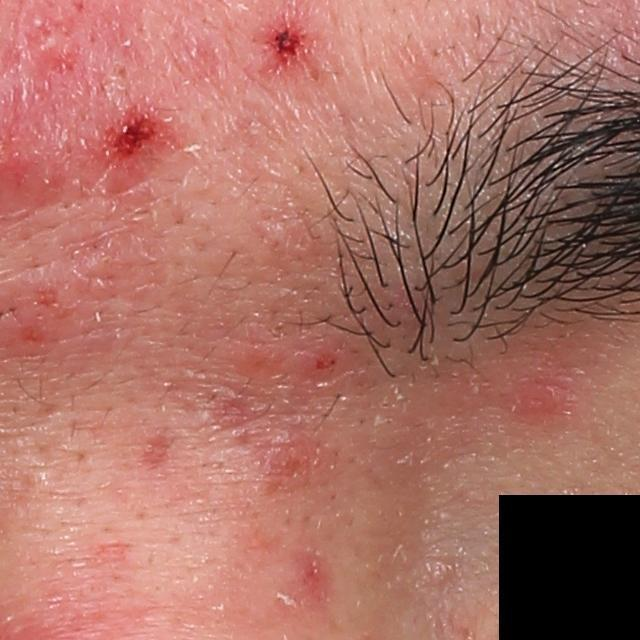papule: (95, 95, 173, 177), (252, 436, 308, 488), (513, 377, 565, 423), (287, 549, 333, 601), (259, 18, 307, 62), (300, 343, 349, 384)
